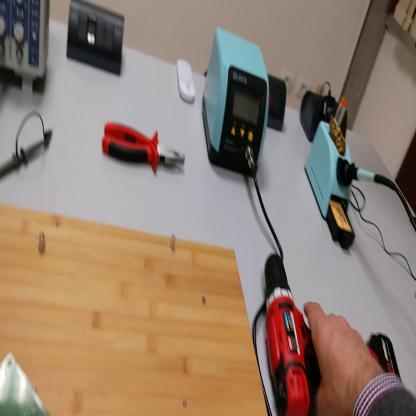electric screwdriver: (263, 251, 381, 416)
hand: (304, 301, 383, 414)
low voltage board: (2, 356, 48, 415)
oscilloscope: (2, 2, 54, 96)
oscilloscope probe tip: (2, 138, 44, 179)
pliers: (102, 122, 188, 176)
socket: (301, 86, 349, 143), (269, 75, 288, 137)
welder base: (309, 82, 359, 250)
welder probe tip: (344, 161, 398, 196)
welder station: (205, 28, 272, 180)
working area: (2, 202, 269, 415)
